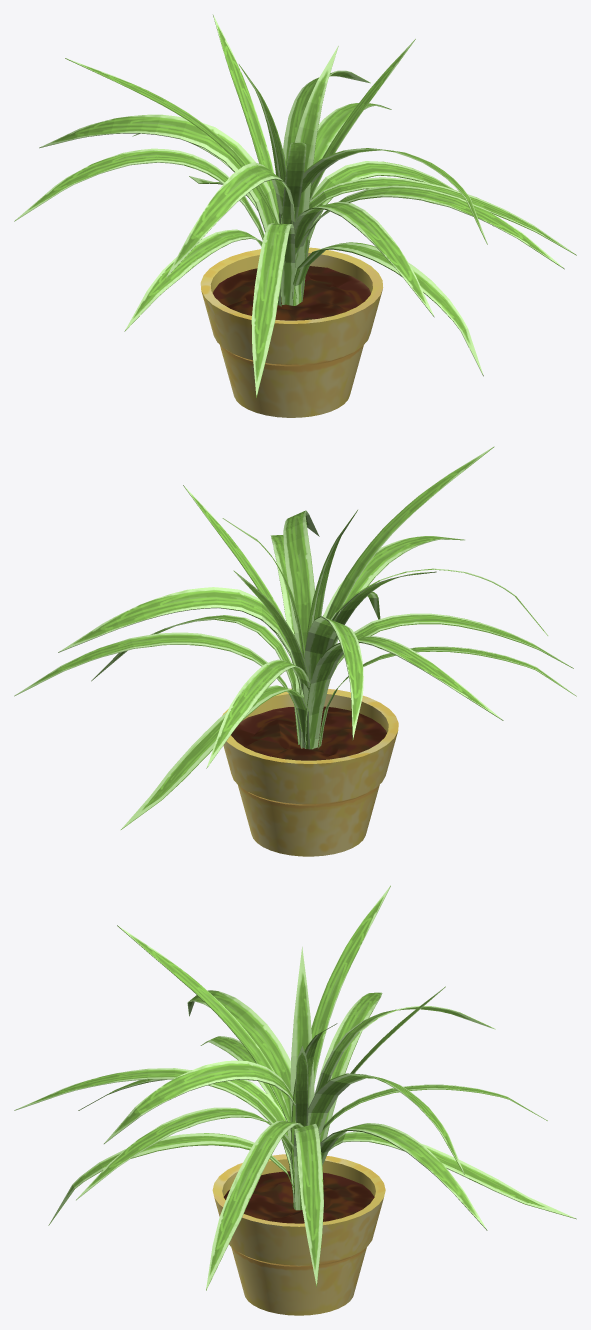
The model's file is Chlorophytum_good.glb.
3 views of the same model, one above another, from view 1: azimuth 30°, elevation 25°; view 2: azimuth 150°, elevation 25°; view 3: azimuth 270°, elevation 25° (orthographic). The views are drawn at different scales.
Visible parts, largest first — view 1: Pot, Cube.011, Cube.018, Cube.012, Cube.017, Cube.010, Cube.006, Cube.023, Cube.016, Cube.019, Cube.007, Cube.025 (+8 smaller); view 2: Pot, Cube.009, Cube.010, Cube.018, Cube.015, Cube.020, Cube.021, Cube.008, Cube.022, Cube.011, Cube.017, Cube.007 (+6 smaller); view 3: Pot, Cube.016, Cube.007, Cube.015, Cube.012, Cube.021, Cube.006, Cube.004, Cube.017, Cube.022, Cube.009, Cube.020 (+9 smaller).
Boxes of the visible parts, x1,y1,x2,y2 form: Pot: [200, 247, 383, 417]; Cube.011: [251, 223, 295, 397]; Cube.018: [39, 114, 279, 232]; Cube.012: [165, 162, 295, 278]; Cube.017: [283, 201, 434, 317]; Cube.010: [14, 148, 264, 240]; Cube.006: [291, 185, 564, 297]; Cube.023: [292, 242, 483, 376]; Cube.016: [280, 177, 576, 288]; Cube.019: [124, 229, 281, 331]; Cube.007: [301, 161, 493, 301]; Cube.025: [294, 46, 338, 296]; Pot: [222, 688, 398, 856]; Cube.009: [58, 587, 302, 695]; Cube.010: [305, 636, 503, 749]; Cube.018: [303, 616, 363, 740]; Cube.015: [283, 510, 319, 693]; Cube.020: [121, 685, 310, 829]; Cube.021: [14, 632, 302, 748]; Cube.008: [206, 659, 310, 768]; Cube.022: [299, 446, 494, 744]; Cube.011: [332, 613, 573, 675]; Cube.017: [323, 536, 464, 644]; Cube.007: [91, 615, 299, 744]; Pot: [212, 1154, 385, 1315]; Cube.016: [206, 1120, 303, 1290]; Cube.007: [293, 1123, 323, 1286]; Cube.015: [104, 1060, 295, 1143]; Cube.012: [187, 990, 292, 1170]; Cube.021: [320, 1123, 487, 1230]; Cube.006: [76, 1107, 297, 1200]; Cube.004: [293, 885, 390, 1202]; Cube.017: [14, 1068, 291, 1157]; Cube.022: [117, 925, 291, 1130]; Cube.009: [307, 1073, 464, 1174]; Cube.020: [328, 1131, 576, 1219].
Bounding box in the file's own units: 12.24 × 8.48 × 13.32.
22 materials, 22 textured.
